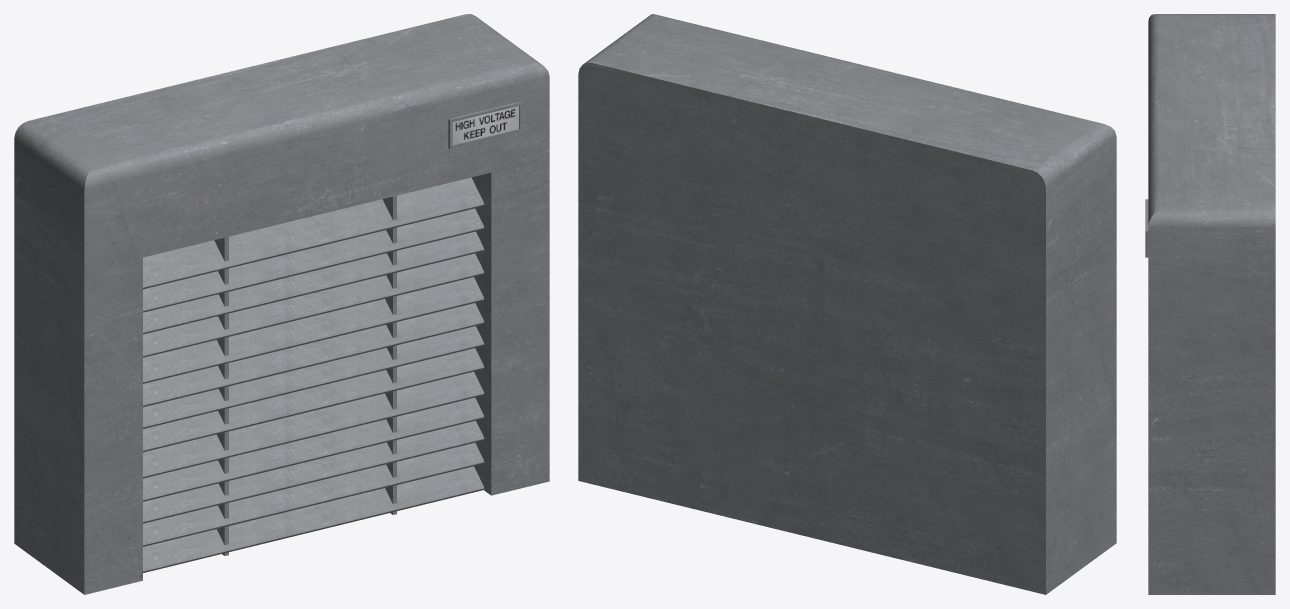
File: heater.fbx
3 views of the same model, side by side, from view 1: azimuth 30°, elevation 25°; view 2: azimuth 150°, elevation 25°; view 3: azimuth 270°, elevation 25° (orthographic). The views are drawn at different scales.
Visible parts, largest first — view 1: Mesh; view 2: Mesh; view 3: Mesh.
Boxes of the visible parts, <box> form: Mesh: <box>14,14,549,594</box>; Mesh: <box>578,14,1116,594</box>; Mesh: <box>1145,14,1275,594</box>.
Size of the model in its own units: 167 by 145 by 44.67.
